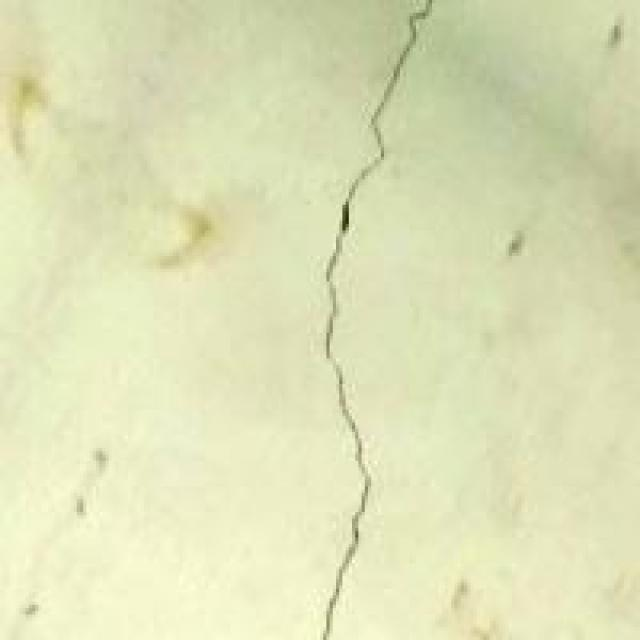crack: (253, 0, 464, 637)
